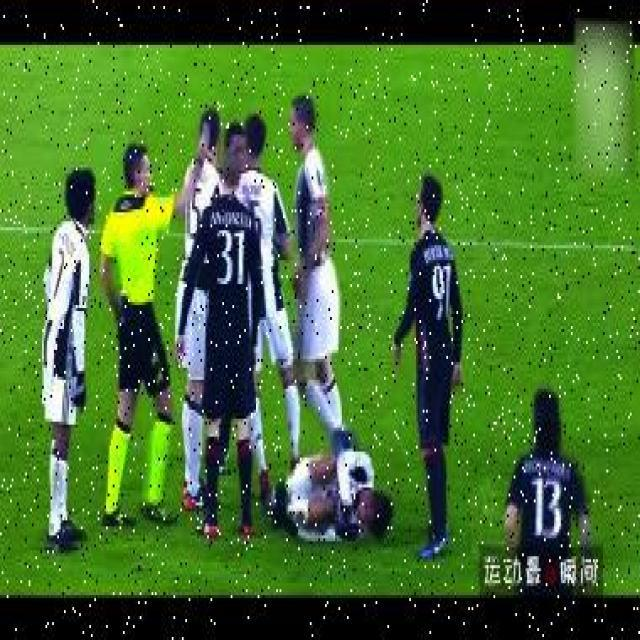fall: (264, 446, 396, 544)
